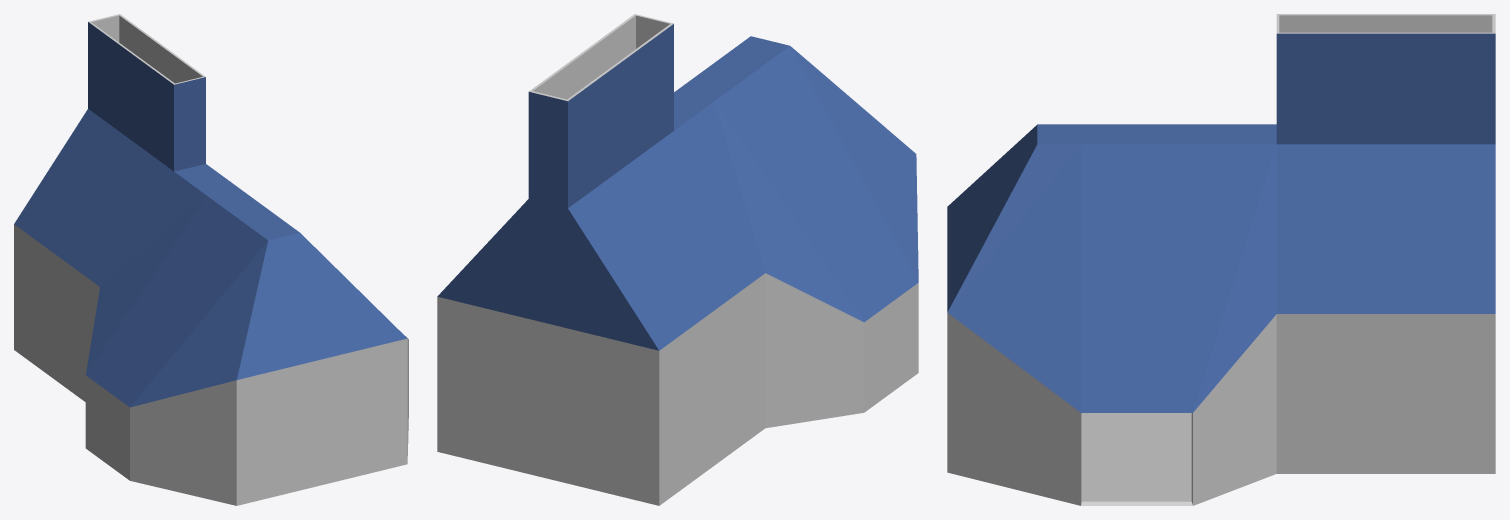
File: house_6.fbx
3 renders of one model, left to right at view 1: azimuth 30°, elevation 25°; view 2: azimuth 150°, elevation 25°; view 3: azimuth 270°, elevation 25°, orthographic. The views are drawn at different scales.
Visible parts, largest first — view 1: house_6; view 2: house_6; view 3: house_6.
Boxes of the visible parts, <box> form: house_6: <box>14,14,408,505</box>; house_6: <box>437,14,918,505</box>; house_6: <box>947,14,1495,505</box>.
Bounding box in the file's own units: 957 × 1016 × 1281.
